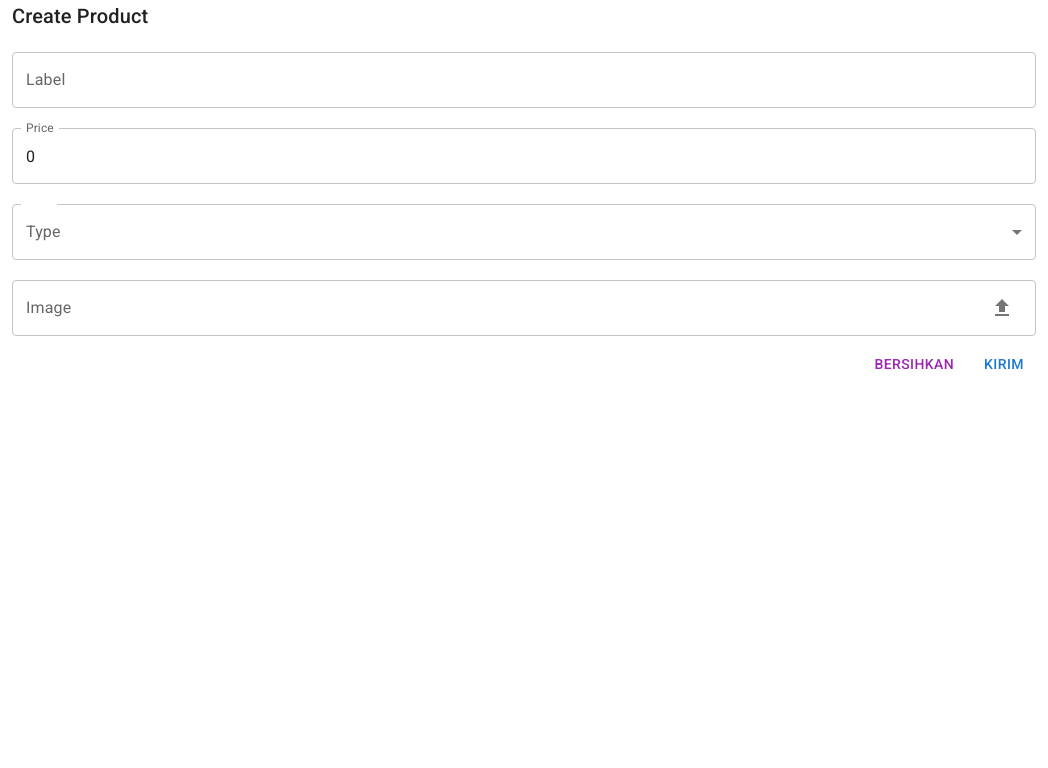
Test: CreateProduct Page › submit form with empty body
Click the button "Kirim".
click(1004, 364)  # box top-left (972, 346), bottom-right (1036, 382)
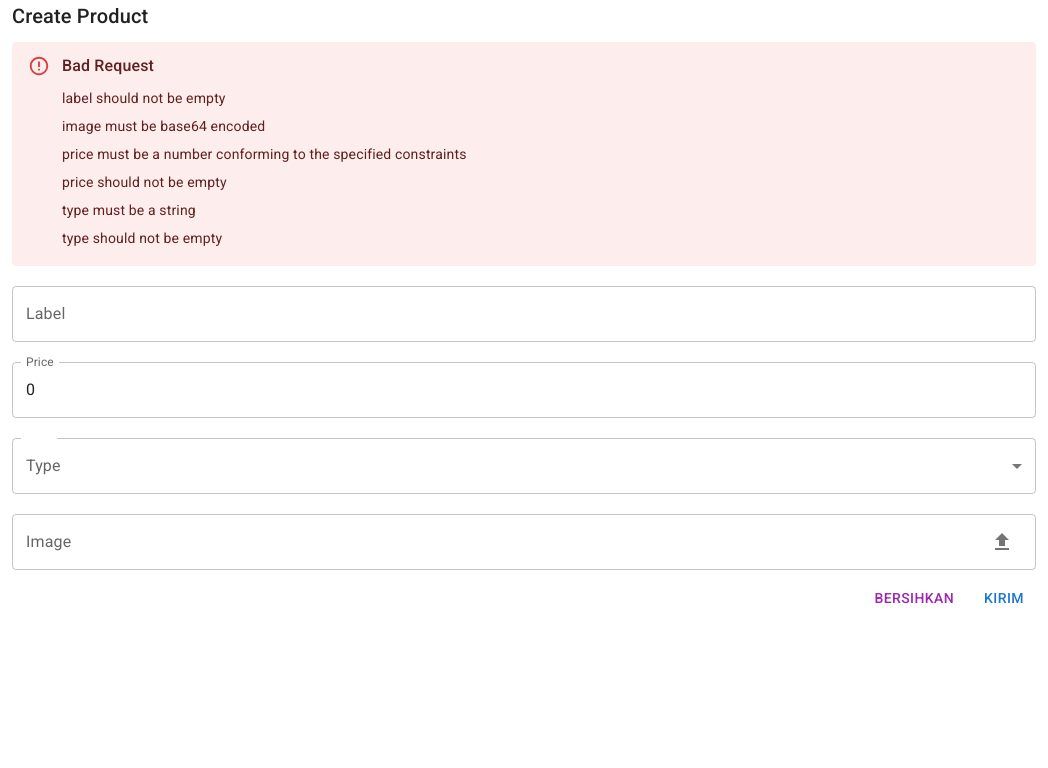
Expected: the text "label should not be empty" is shown, top-left (62, 90), bottom-right (226, 106)
